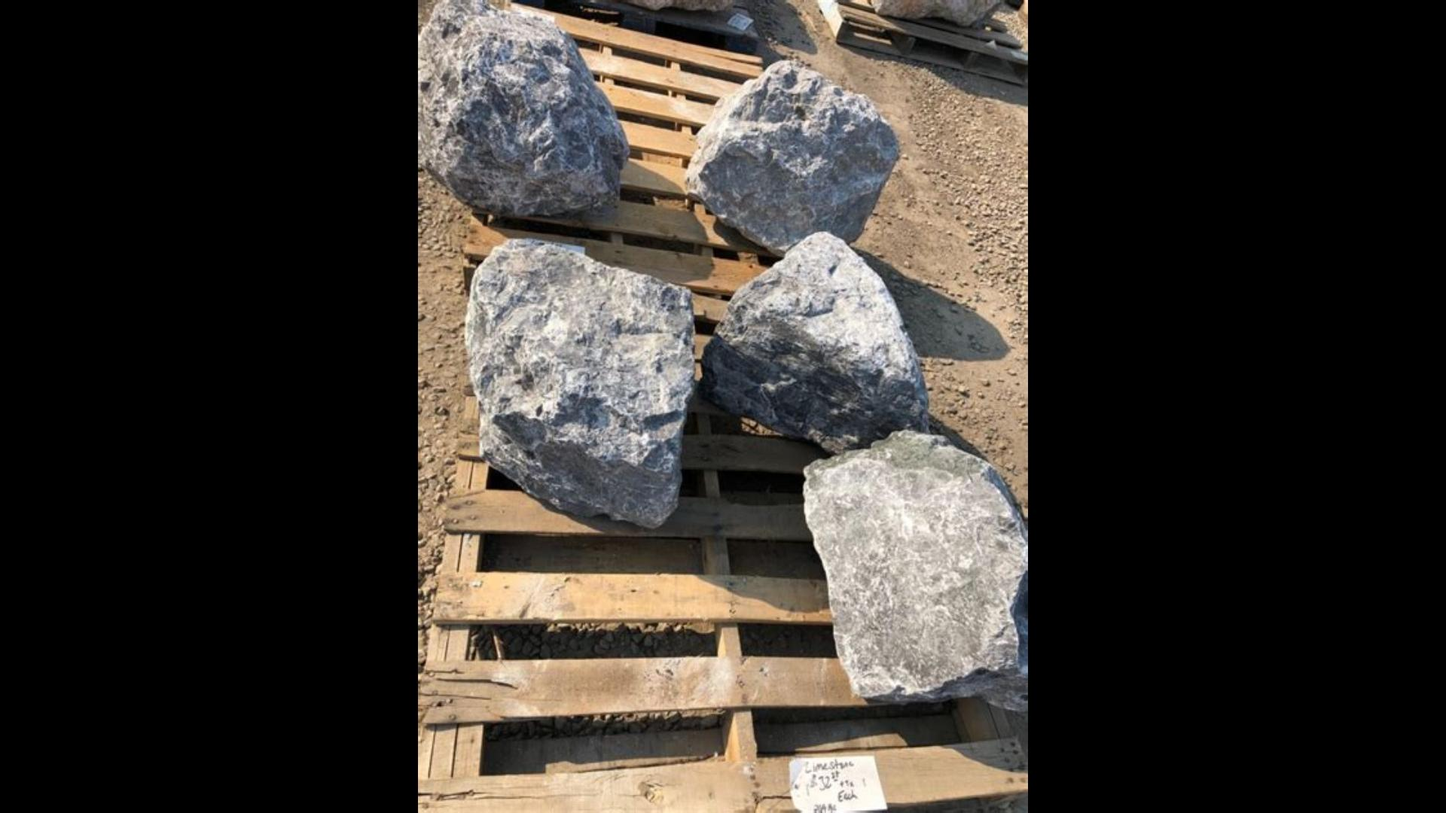rock: (467, 240, 697, 527), (802, 435, 1027, 706), (702, 233, 926, 453), (418, 0, 629, 212), (685, 61, 904, 254)
